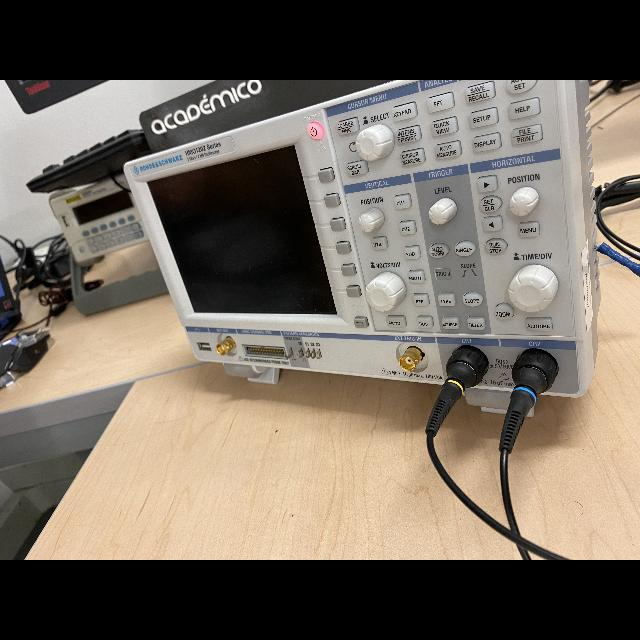Digital-Oscilloscope: (124, 80, 602, 411)
